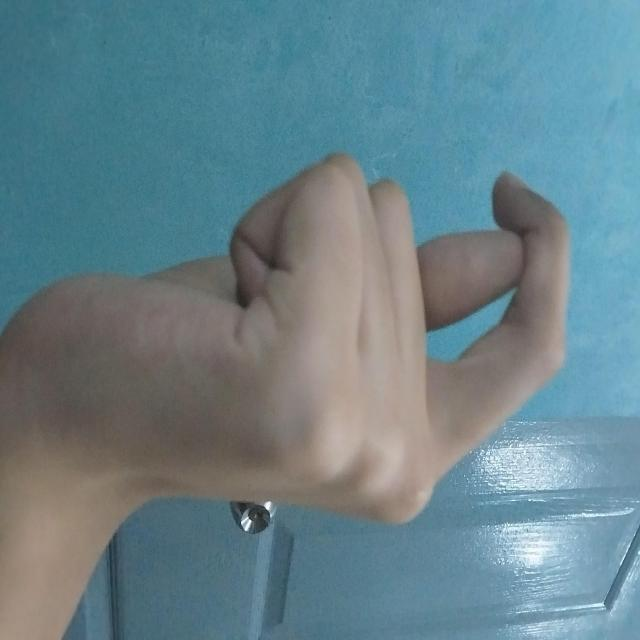T: (146, 67, 526, 640)
